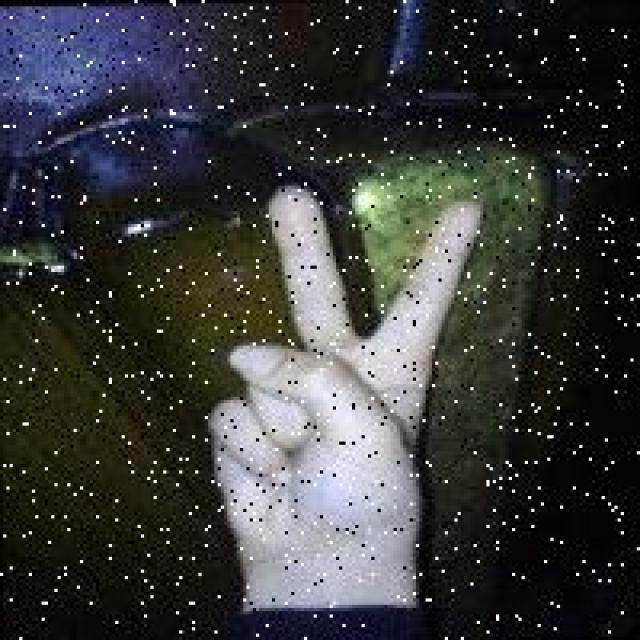V: (200, 174, 491, 556)
